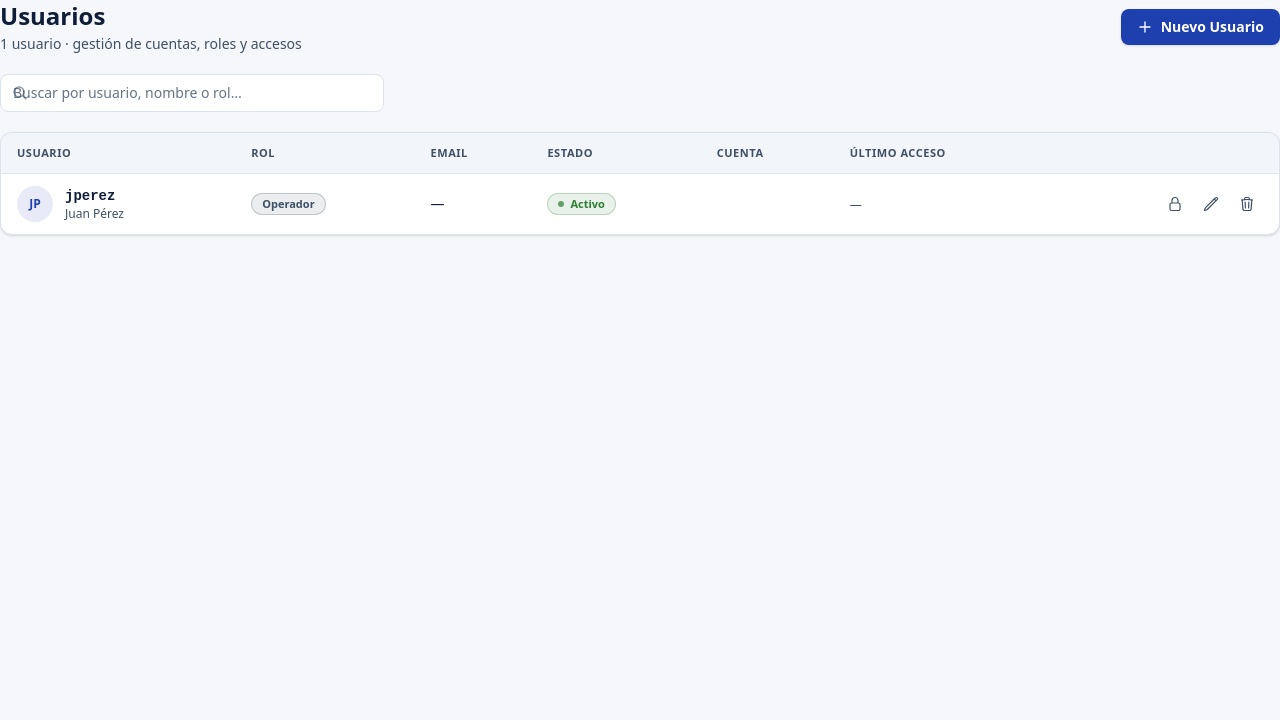
Test case: ramas de gestión de la página de Usuarios › editar usuario: sin contraseña, trim de email y error del backend
Expected: the text "Juan Pérez" is shown, [65,206,124,222]
Click the button named "Editar usuario Juan Pérez": (1211, 204) [1195,188,1227,220]
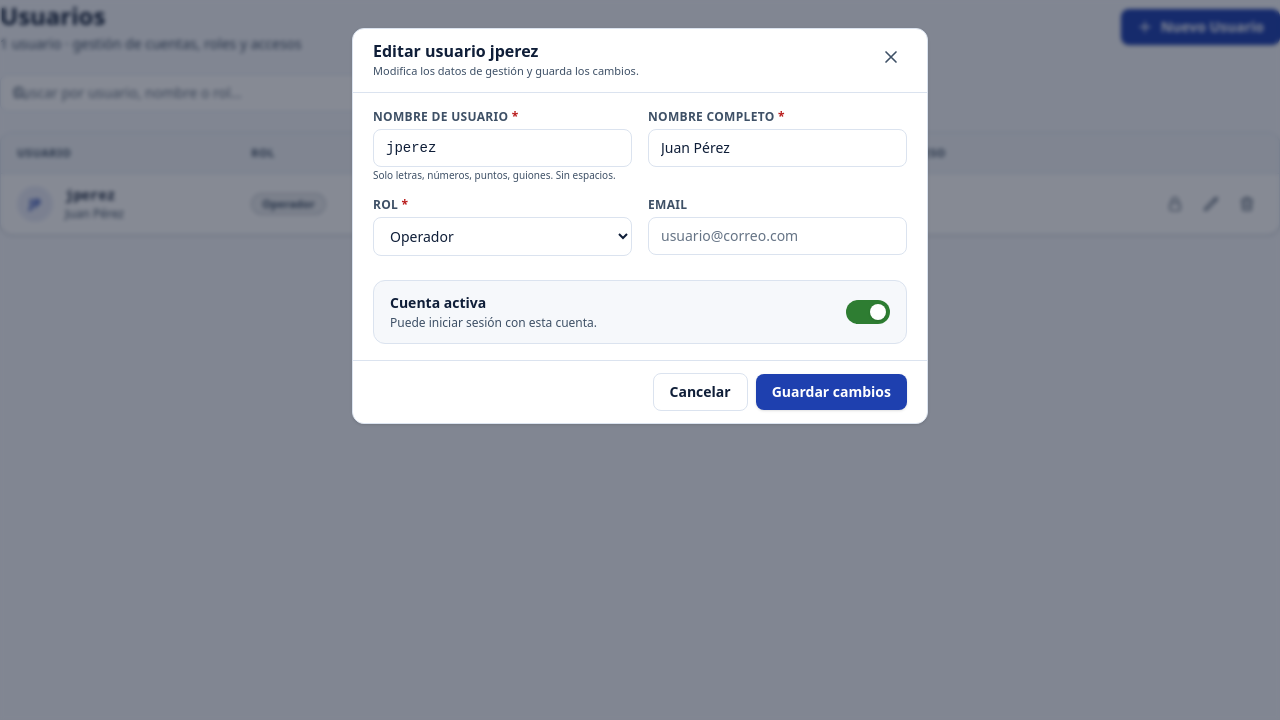
Expected: the dialog shows "Editar usuario jperez", [373,40,538,62]
Expected: the dialog shows "Modifica los datos de gestión y guarda los cambios.", [373,63,639,78]
Expected: the number of switches is 1, [373,280,907,344]
Error del backend
In the field with placeholder "usuario@correo.com": (778, 236) [648,217,907,255], type "  juan@correo.com  "
Click the button "Guardar cambios": (831, 392) [756,374,907,410]
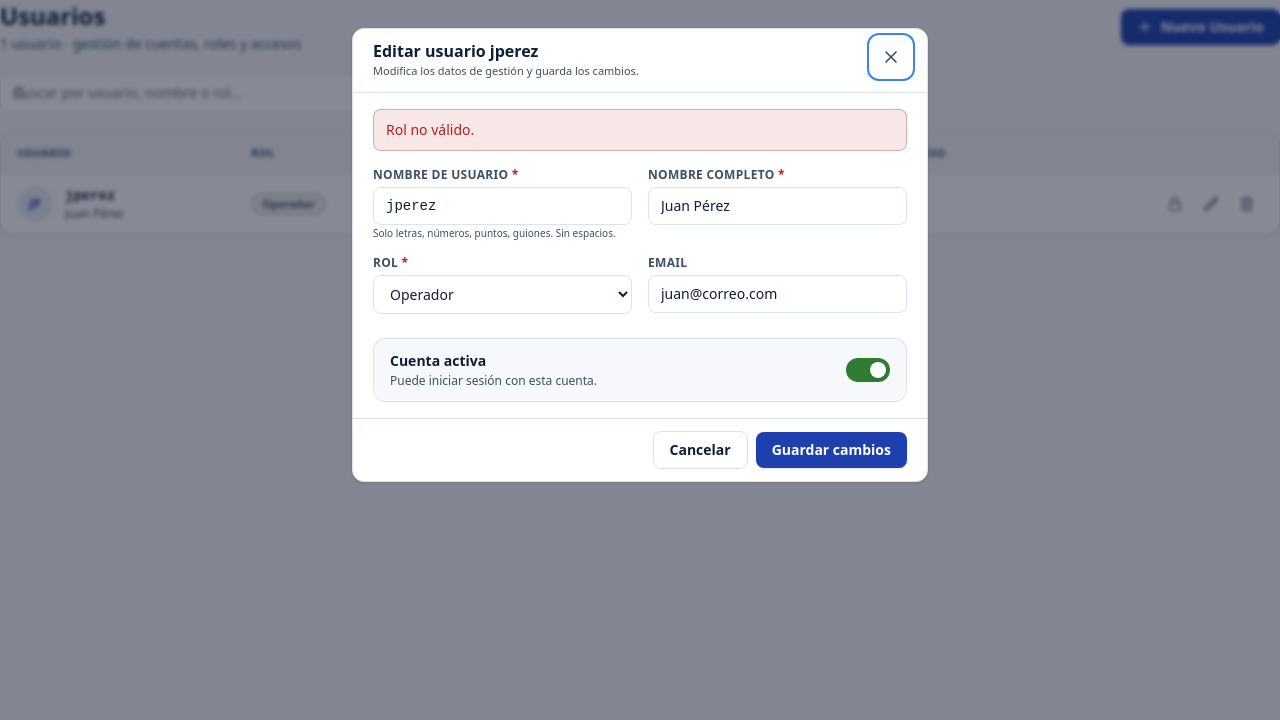
Expected: the message reads "Rol no válido.", [386,120,474,138]
Clear the field with placeholder "usuario@correo.com": (778, 294) [648,275,907,313]
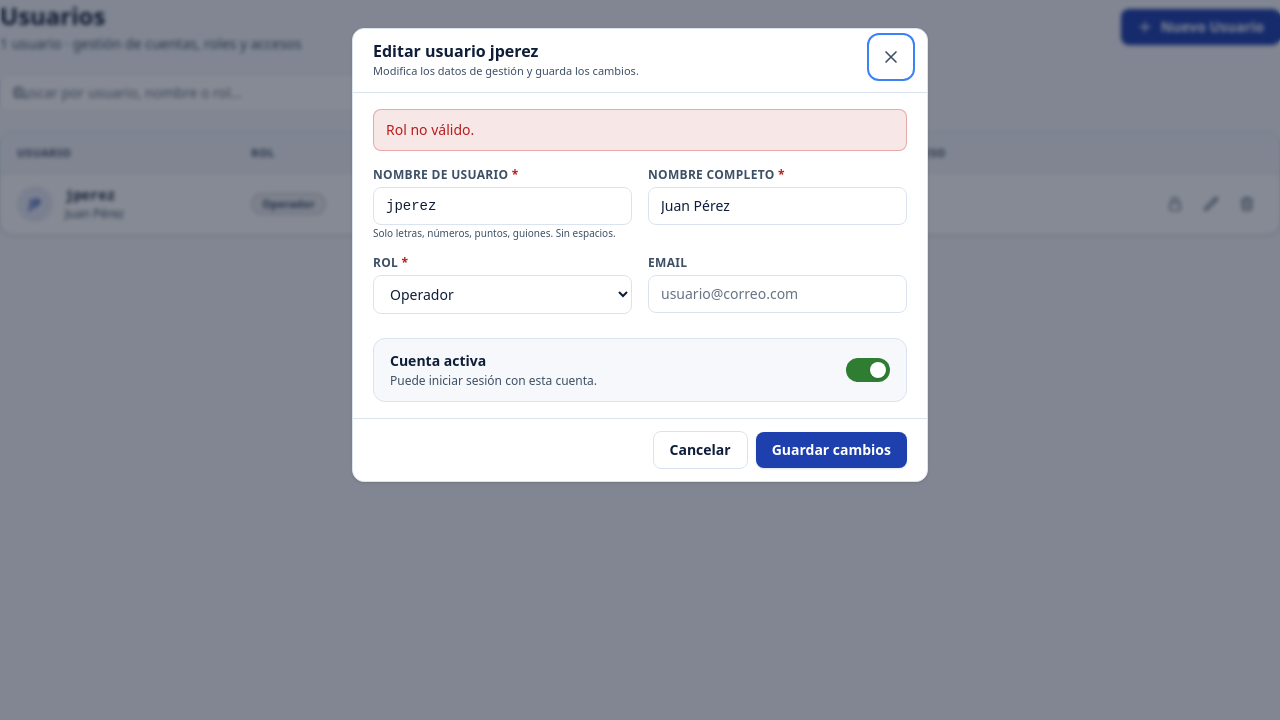
Click the switch: (438, 360) [373,338,907,402]
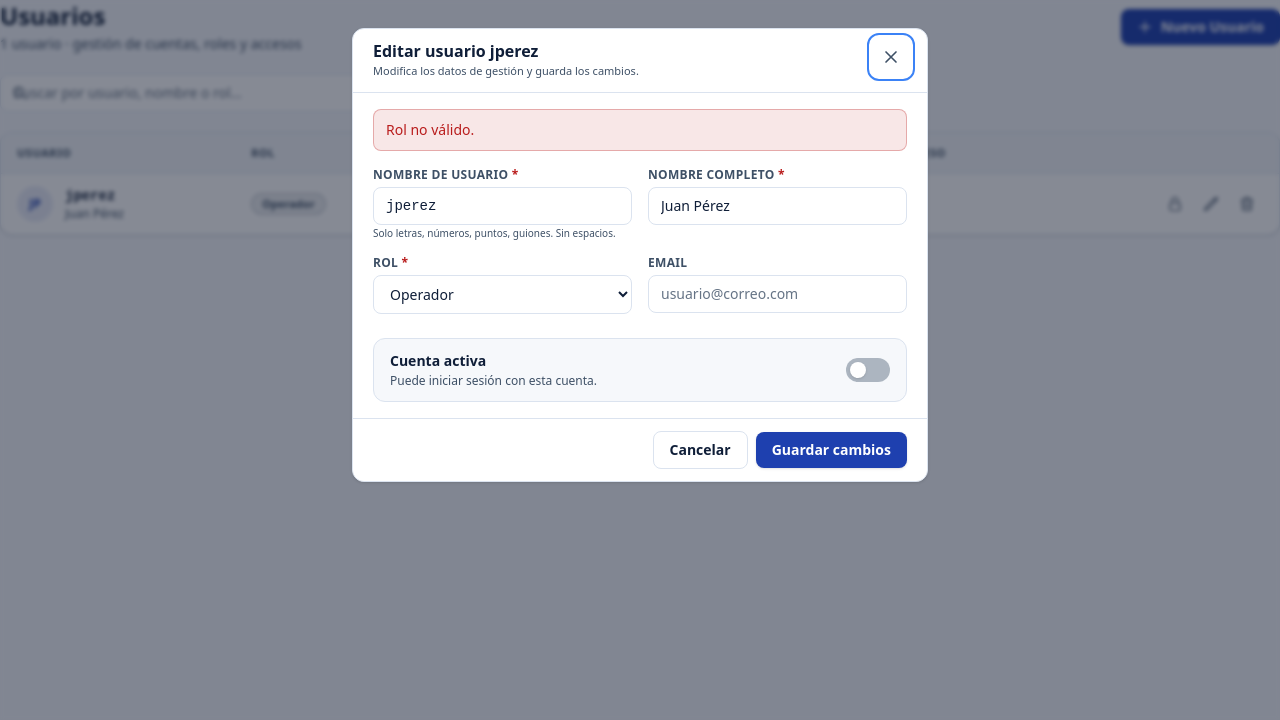
Expected: the dropdown labelled "Rol *" is shown
Select "Supervisor" in the dropdown labelled "Rol *": (502, 294) [373,275,632,314]
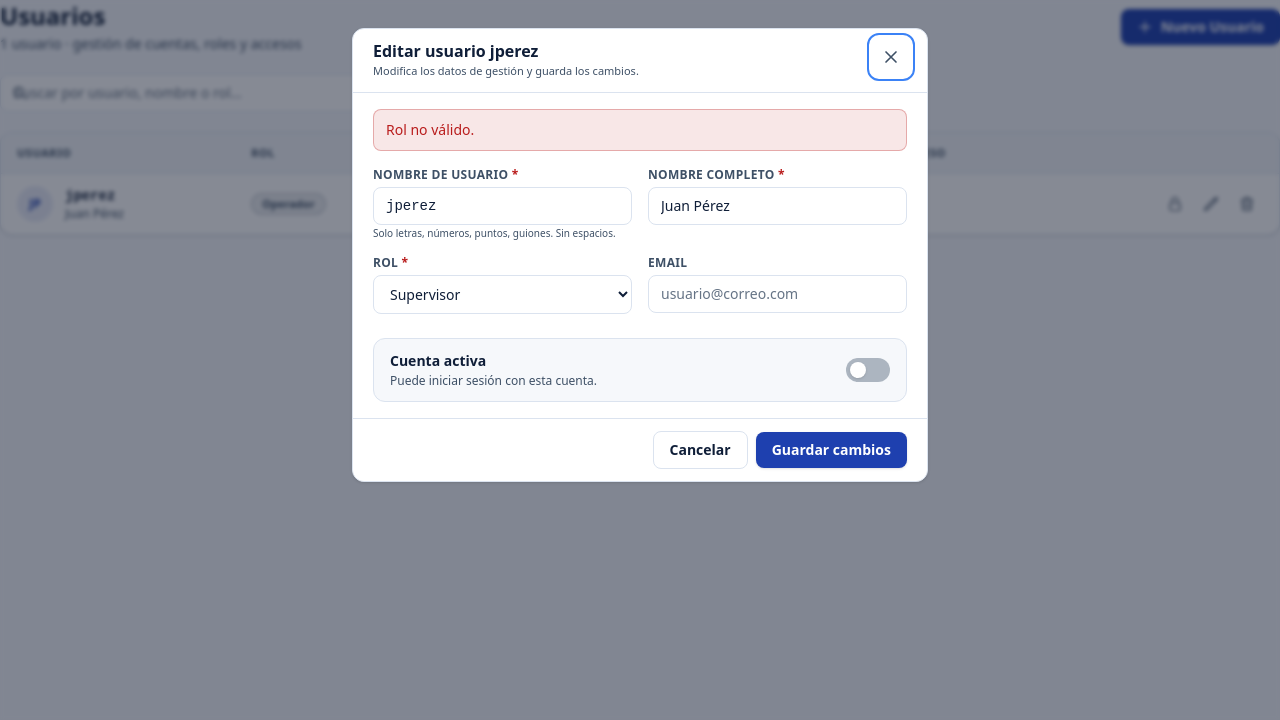
Click the button "Guardar cambios": (831, 450) [756,432,907,468]
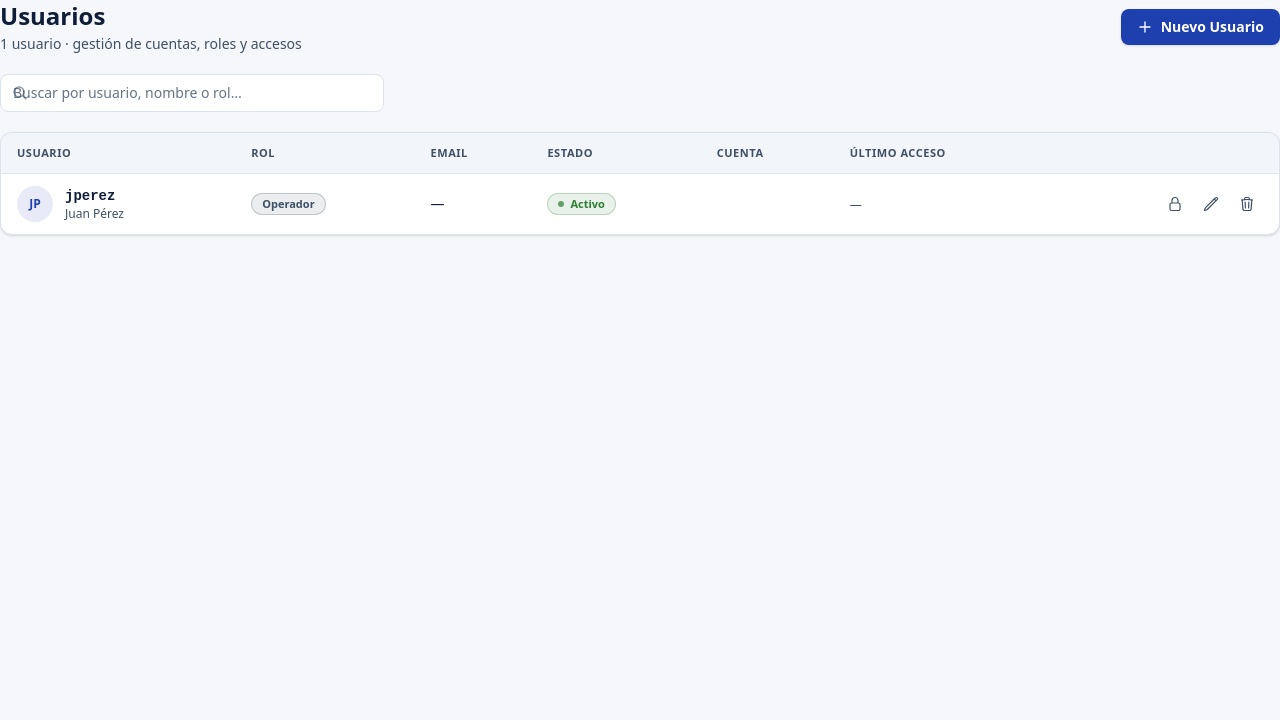
Expected: the dialog is gone
